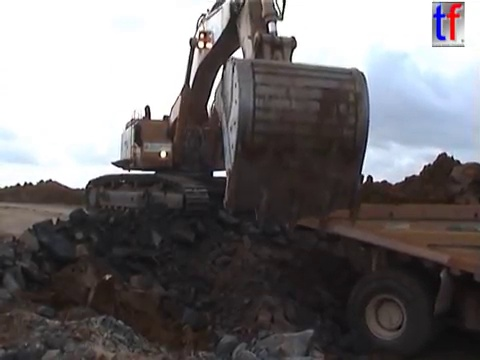excavator: (81, 1, 374, 242)
truck: (251, 191, 480, 360)
